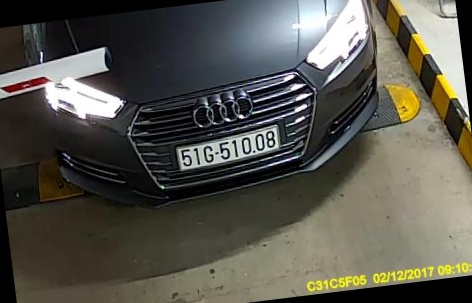plate: (174, 125, 282, 179)
